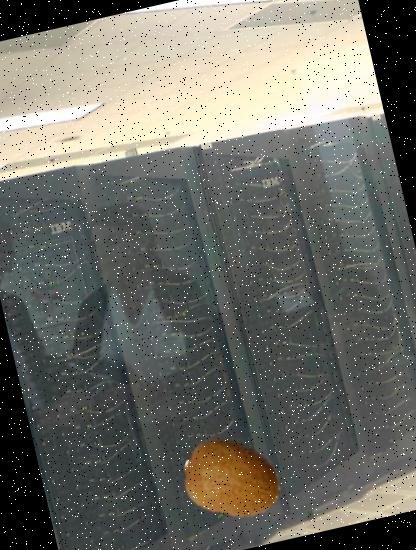Kiwi: (172, 420, 290, 538)
